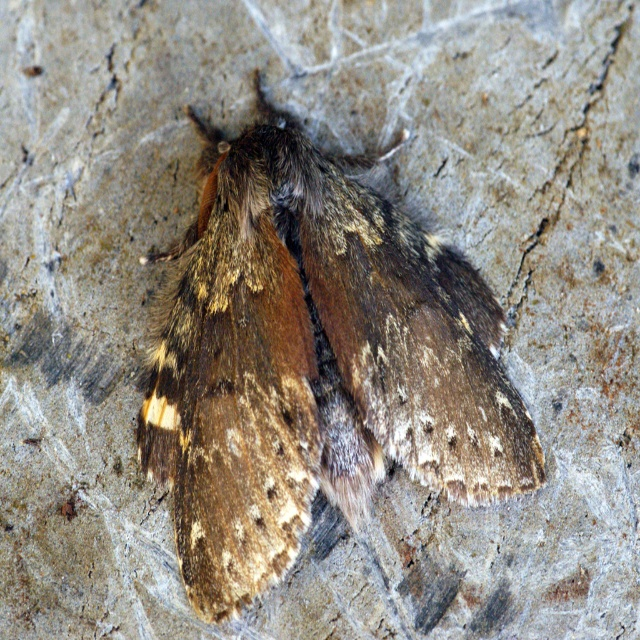Butterfly: (129, 91, 534, 639)
